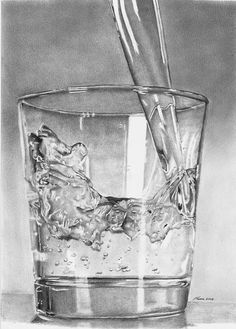glass of water: (13, 61, 208, 322)
